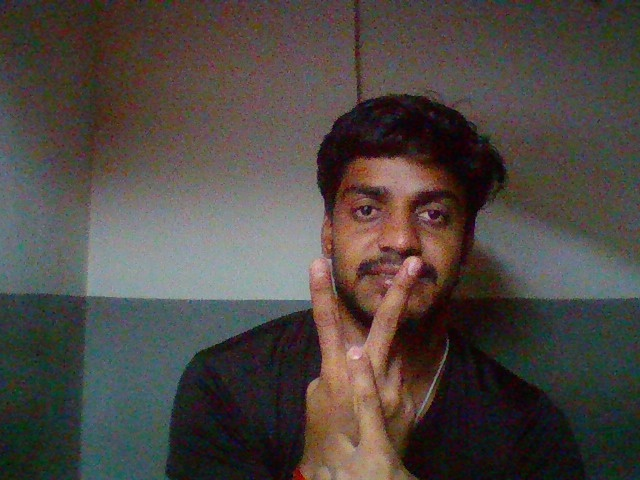Y: (288, 237, 431, 479)
